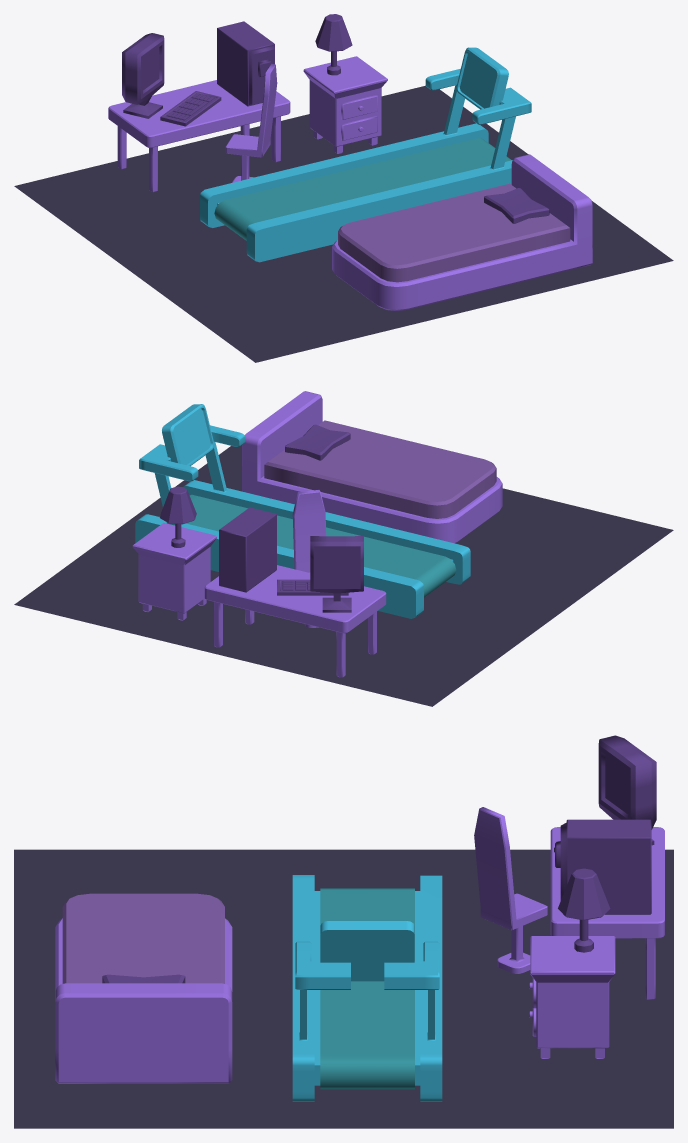
File: Room.fbx
3 views of the same model, one above another, from view 1: azimuth 30°, elevation 25°; view 2: azimuth 150°, elevation 25°; view 3: azimuth 270°, elevation 25° (orthographic). The views are drawn at different scales.
Parts seen in each view (by area): view 1: Plane.002, TreadMillV2.002, Cube.007, BedV1.003, TableV1.002, BesideTable.002, SystenBlock.002, Monitor.002, Cube.006, Cube.008, Light.002, Keyboard.002; view 2: Plane.002, TreadMillV2.002, Cube.007, BedV1.003, TableV1.002, BesideTable.002, SystenBlock.002, Monitor.002, Cube.006, Cube.008, Light.002, Keyboard.002; view 3: Plane.002, TreadMillV2.002, BedV1.003, Cube.007, BesideTable.002, SystenBlock.002, Cube.006, TableV1.002, Monitor.002, Light.002, Cube.008.
Boxes of the visible parts, x1=… form: Plane.002: x1=14, y1=85, x2=673, y2=362; TreadMillV2.002: x1=200, y1=47, x2=531, y2=262; Cube.007: x1=338, y1=183, x2=570, y2=282; BedV1.003: x1=332, y1=154, x2=592, y2=310; TableV1.002: x1=108, y1=80, x2=290, y2=192; BesideTable.002: x1=303, y1=56, x2=387, y2=153; SystenBlock.002: x1=217, y1=21, x2=274, y2=106; Monitor.002: x1=122, y1=33, x2=164, y2=118; Cube.006: x1=225, y1=63, x2=277, y2=182; Cube.008: x1=484, y1=188, x2=549, y2=223; Light.002: x1=315, y1=14, x2=352, y2=75; Keyboard.002: x1=160, y1=91, x2=221, y2=126; Plane.002: x1=14, y1=445, x2=673, y2=706; TreadMillV2.002: x1=135, y1=404, x2=470, y2=618; Cube.007: x1=264, y1=420, x2=496, y2=518; BedV1.003: x1=242, y1=391, x2=502, y2=543; TableV1.002: x1=204, y1=565, x2=386, y2=677; BesideTable.002: x1=132, y1=523, x2=216, y2=620; SystenBlock.002: x1=219, y1=507, x2=276, y2=592; Monitor.002: x1=310, y1=536, x2=363, y2=612; Cube.006: x1=292, y1=490, x2=326, y2=627; Cube.008: x1=285, y1=424, x2=350, y2=460; Light.002: x1=159, y1=486, x2=196, y2=547; Keyboard.002: x1=277, y1=579, x2=348, y2=595; Plane.002: x1=14, y1=849, x2=673, y2=1128; TreadMillV2.002: x1=292, y1=875, x2=442, y2=1101; BedV1.003: x1=55, y1=918, x2=232, y2=1083; Cube.007: x1=62, y1=893, x2=224, y2=983; BesideTable.002: x1=529, y1=936, x2=615, y2=1058; SystenBlock.002: x1=555, y1=819, x2=651, y2=914; Cube.006: x1=474, y1=807, x2=547, y2=973; TableV1.002: x1=550, y1=827, x2=664, y2=999; Monitor.002: x1=598, y1=735, x2=656, y2=845; Light.002: x1=558, y1=868, x2=610, y2=952; Cube.008: x1=102, y1=974, x2=185, y2=983.
Size of the model in its own units: 1281 by 1281 by 373.
